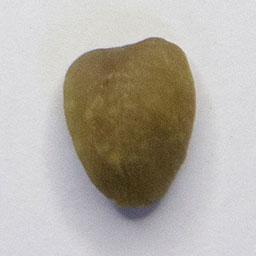premium: (59, 33, 202, 211)
